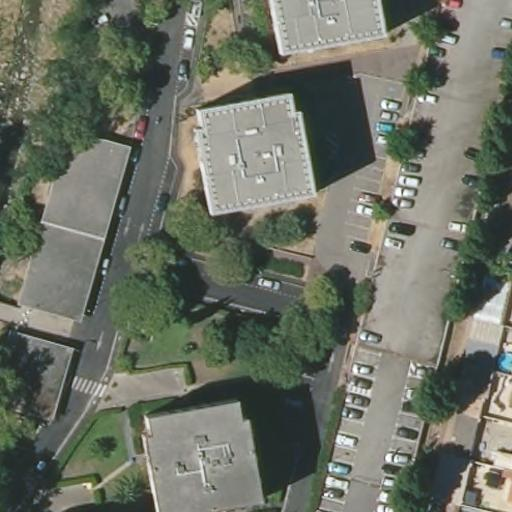pool: (497, 350, 511, 371)
